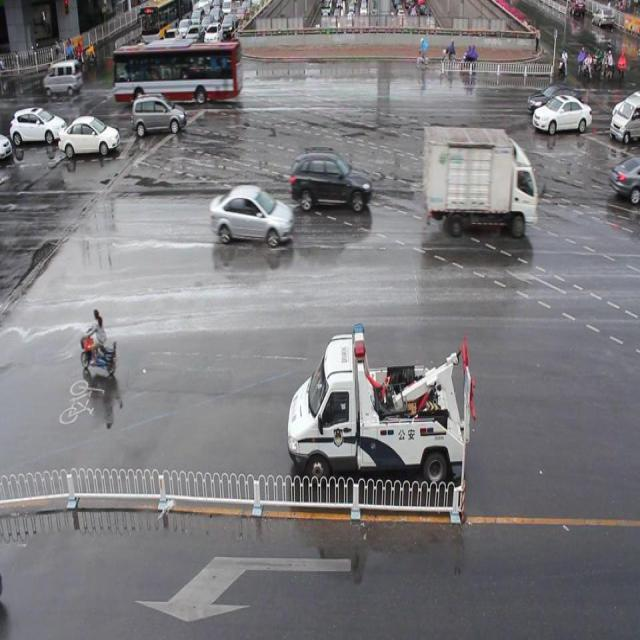bus: (286, 320, 475, 486), (423, 124, 536, 235)
car: (290, 150, 373, 213), (210, 185, 291, 246), (57, 112, 119, 158), (532, 91, 592, 132), (132, 95, 187, 135), (527, 80, 586, 114), (608, 154, 640, 204)
truck: (608, 93, 640, 143)
van: (114, 44, 244, 102)
